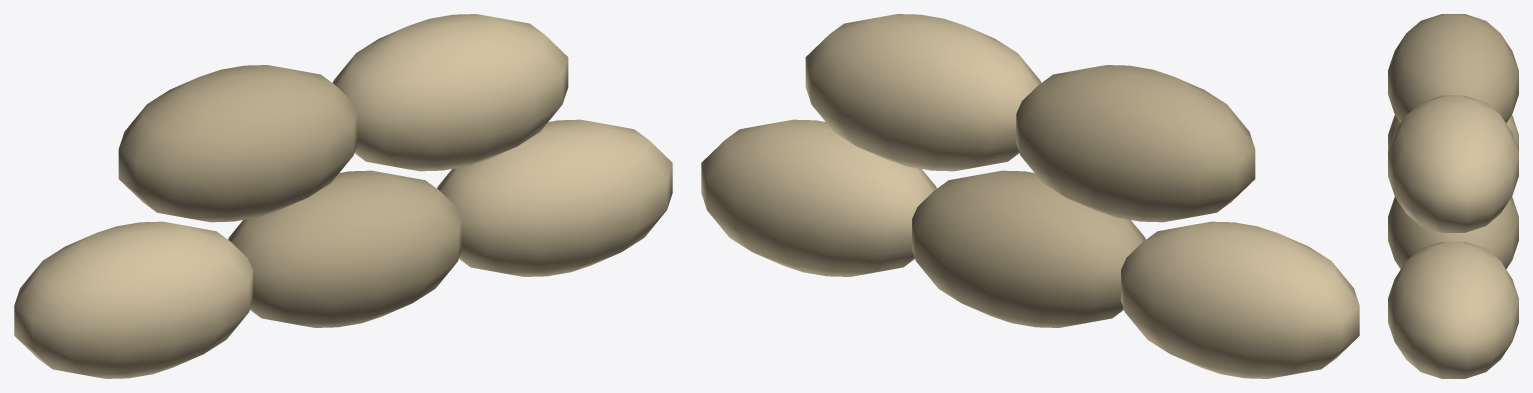
Rendered from prop_sandbags.glb.
The picture shows the model from 3 angles, left to right: view 1: azimuth 30°, elevation 25°; view 2: azimuth 150°, elevation 25°; view 3: azimuth 270°, elevation 25°; orthographic projection. The views are drawn at different scales.
Parts seen in each view (by area): view 1: Sphere.003, Sphere, Sphere.004, Sphere.002, Sphere.001; view 2: Sphere.003, Sphere, Sphere.004, Sphere.002, Sphere.001; view 3: Sphere.004, Sphere.002, Sphere.003, Sphere.001, Sphere.
Boxes of the visible parts, x1,y1,x2,y2 form: Sphere.003: [118, 65, 357, 222]; Sphere: [14, 221, 252, 378]; Sphere.004: [332, 14, 568, 171]; Sphere.002: [437, 119, 672, 276]; Sphere.001: [228, 170, 461, 327]; Sphere.003: [1016, 65, 1255, 222]; Sphere: [1121, 221, 1359, 378]; Sphere.004: [805, 14, 1041, 171]; Sphere.002: [701, 119, 936, 276]; Sphere.001: [912, 170, 1145, 327]; Sphere.004: [1388, 95, 1518, 232]; Sphere.002: [1388, 242, 1518, 378]; Sphere.003: [1388, 14, 1518, 122]; Sphere.001: [1388, 197, 1518, 269]; Sphere: [1388, 115, 1518, 151].
Bounding box in the file's own units: 1.53 × 0.608 × 0.3385.
